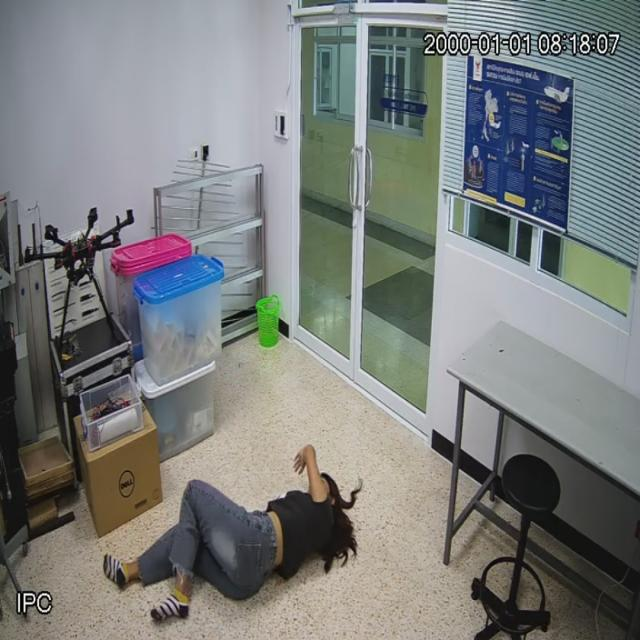fall: (110, 444, 352, 620)
